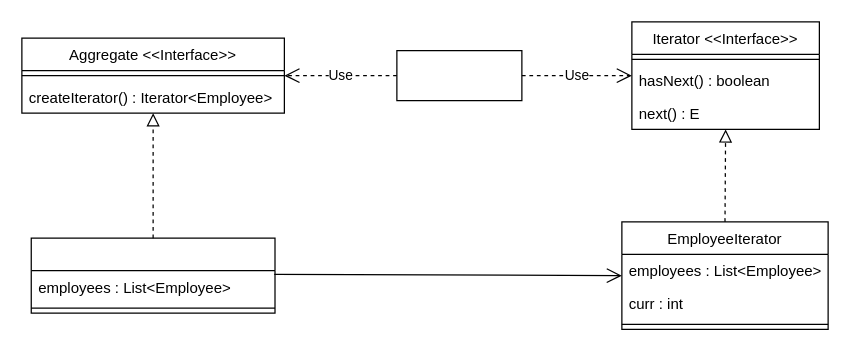
The diagram is 850 pixels wide and 351 high, and some of its shapes have lost their labels. The box of each missing label's shape, as (x1, y1, x2, y2) in pixels:
Client: (396, 49, 522, 101)
Company: (30, 237, 275, 313)
